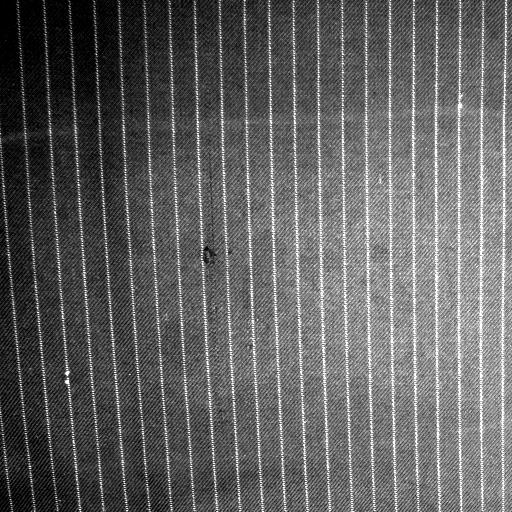fabric_hole: (196, 232, 224, 278)
